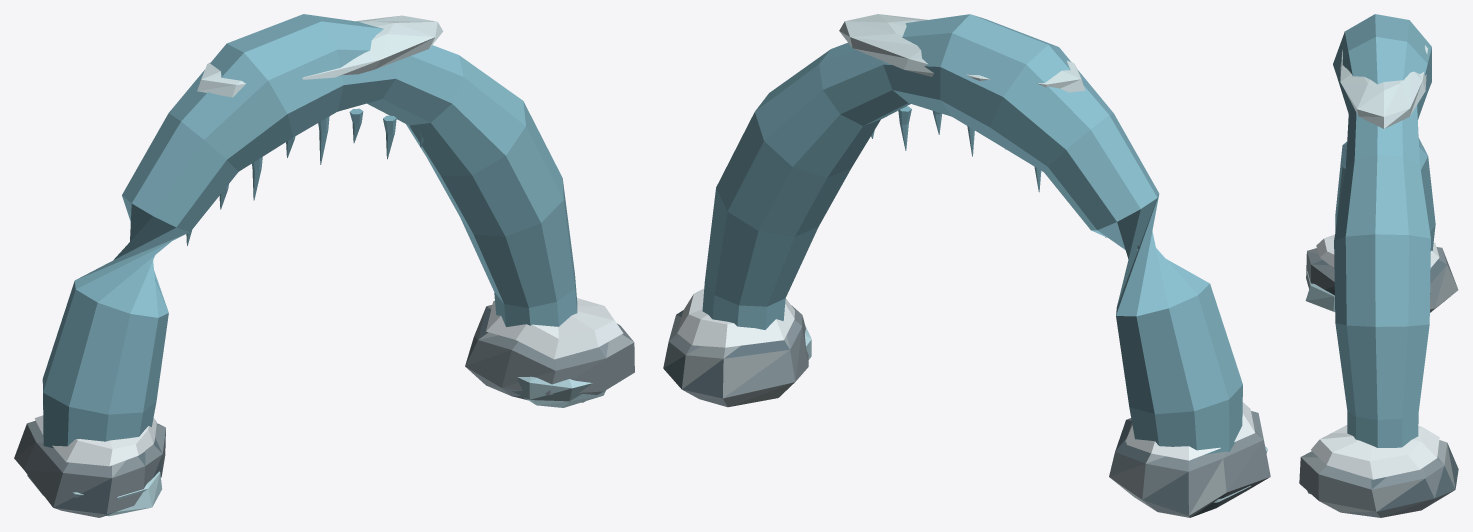
Rendered from HERO_04_LargeIceArch.glb.
The picture shows the model from 3 angles, left to right: view 1: azimuth 30°, elevation 25°; view 2: azimuth 150°, elevation 25°; view 3: azimuth 270°, elevation 25°; orthographic projection. The views are drawn at different scales.
Visible parts, largest first — view 1: HERO_04_LargeIceArch; view 2: HERO_04_LargeIceArch; view 3: HERO_04_LargeIceArch.
Part boxes in pixels (left/top/right/bottom): HERO_04_LargeIceArch: left=14, top=14, right=634, bottom=517; HERO_04_LargeIceArch: left=663, top=14, right=1270, bottom=517; HERO_04_LargeIceArch: left=1299, top=14, right=1458, bottom=517.
Bounding box in the file's own units: 8.75 × 6.08 × 2.37.
